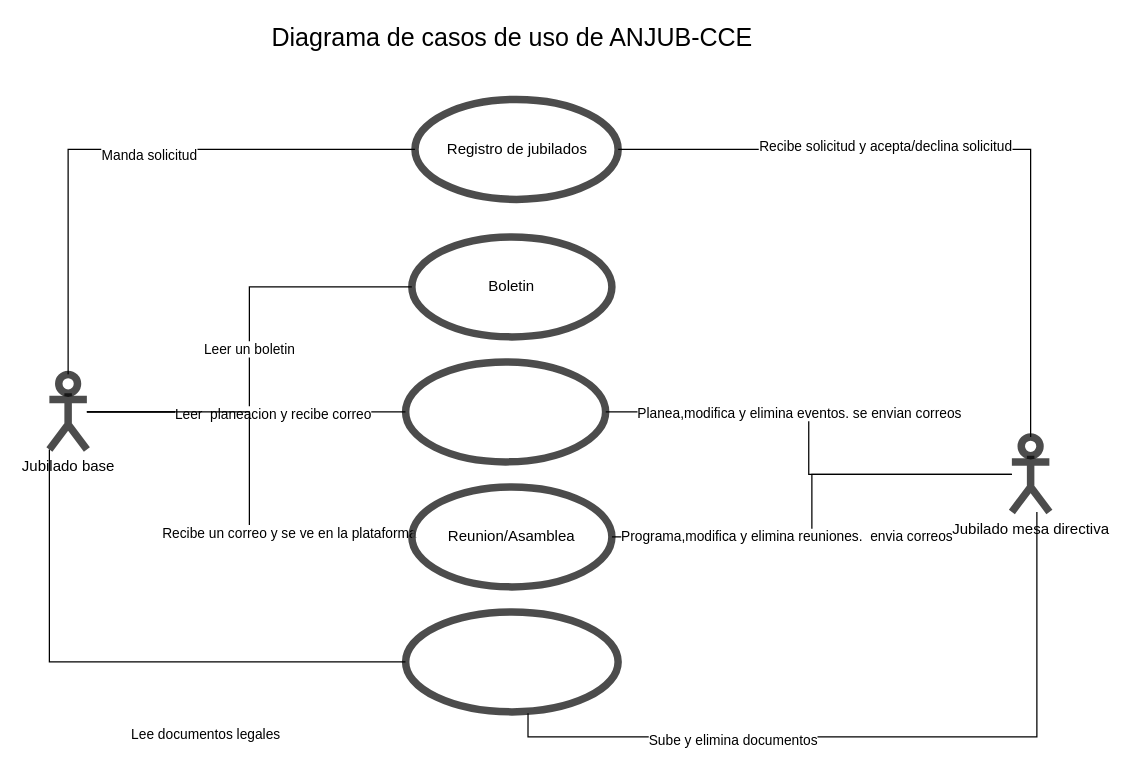
Some shapes in this 1130 by 769 pixel diagram are drawn without their labels. Here are the shapes that lost their labels. From the top down, the centre of each, then its label:
(x=505, y=411): Planeacion o programa de actividades
(x=511, y=661): Documentos Legales
